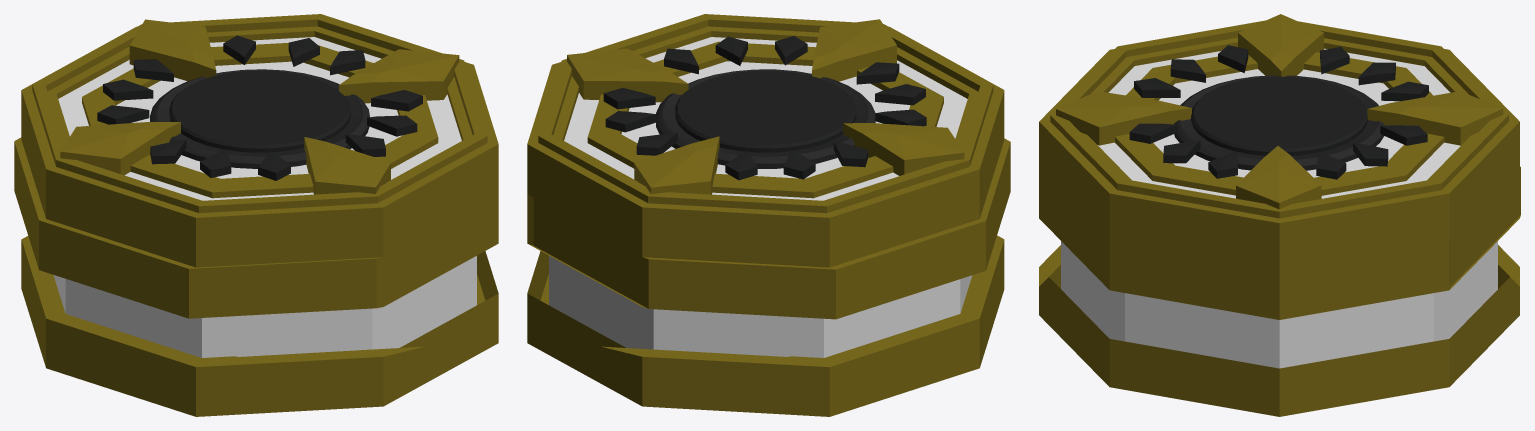
3 renders of one model, left to right at view 1: azimuth 30°, elevation 25°; view 2: azimuth 150°, elevation 25°; view 3: azimuth 270°, elevation 25°, orthographic. The views are drawn at different scales.
Visible parts, largest first — view 1: Cylinder, Cylinder.008, Cylinder.011, Cylinder.016, Cylinder.024, Cylinder.012; view 2: Cylinder, Cylinder.008, Cylinder.011, Cylinder.016, Cylinder.024, Cylinder.012; view 3: Cylinder, Cylinder.008, Cylinder.011, Cylinder.016, Cylinder.024, Cylinder.012.
Boxes of the visible parts, bbox=[...] form: Cylinder: bbox=[14, 14, 498, 416]; Cylinder.008: bbox=[53, 37, 476, 357]; Cylinder.011: bbox=[60, 19, 459, 194]; Cylinder.016: bbox=[169, 70, 350, 152]; Cylinder.024: bbox=[97, 35, 422, 180]; Cylinder.012: bbox=[150, 69, 369, 168]; Cylinder: bbox=[527, 14, 1010, 416]; Cylinder.008: bbox=[549, 37, 972, 357]; Cylinder.011: bbox=[567, 19, 964, 194]; Cylinder.016: bbox=[675, 70, 856, 152]; Cylinder.024: bbox=[603, 36, 926, 180]; Cylinder.012: bbox=[656, 69, 875, 168]; Cylinder: bbox=[1039, 20, 1520, 416]; Cylinder.008: bbox=[1061, 48, 1497, 368]; Cylinder.011: bbox=[1056, 14, 1503, 209]; Cylinder.016: bbox=[1191, 76, 1367, 155]; Cylinder.024: bbox=[1129, 45, 1428, 179]; Cylinder.012: bbox=[1174, 75, 1384, 170].
Bounding box in the file's own units: 335 × 163 × 330.
